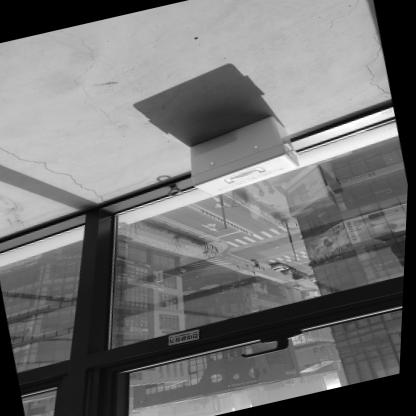DDL: (182, 110, 308, 200)
